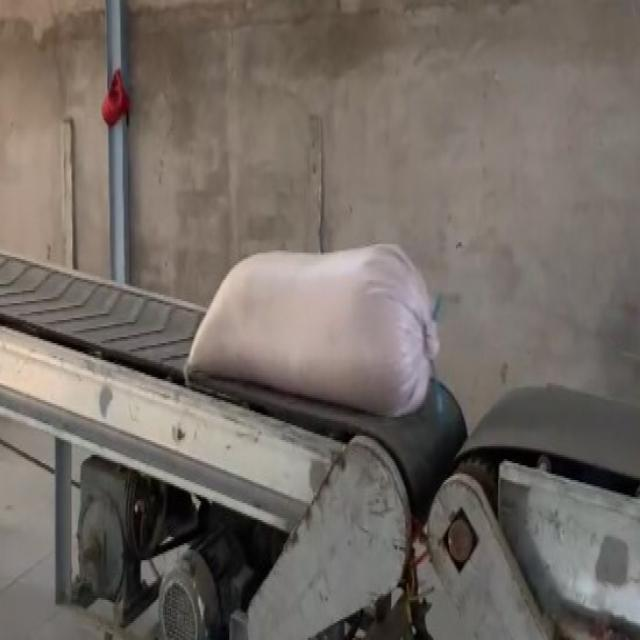gunny_bag: (187, 244, 440, 416)
